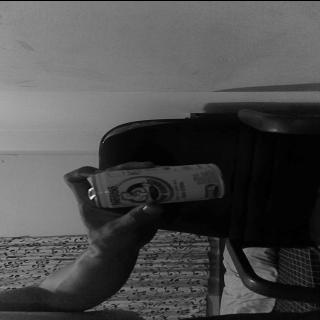alumunium_can: (82, 161, 228, 206)
